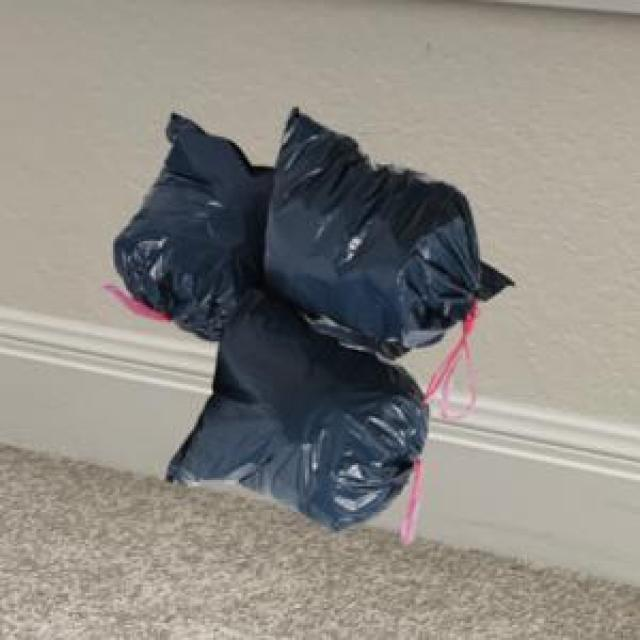waste: (114, 109, 510, 528)
